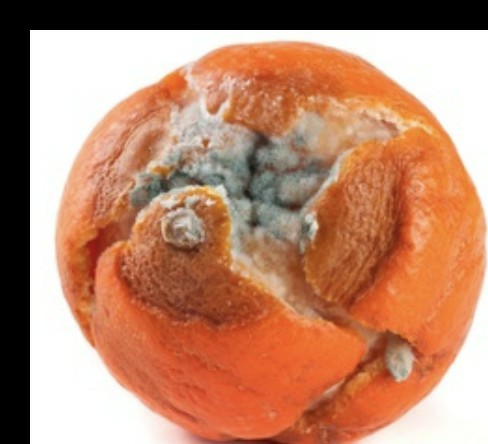rotten_orange: (54, 44, 488, 444)
